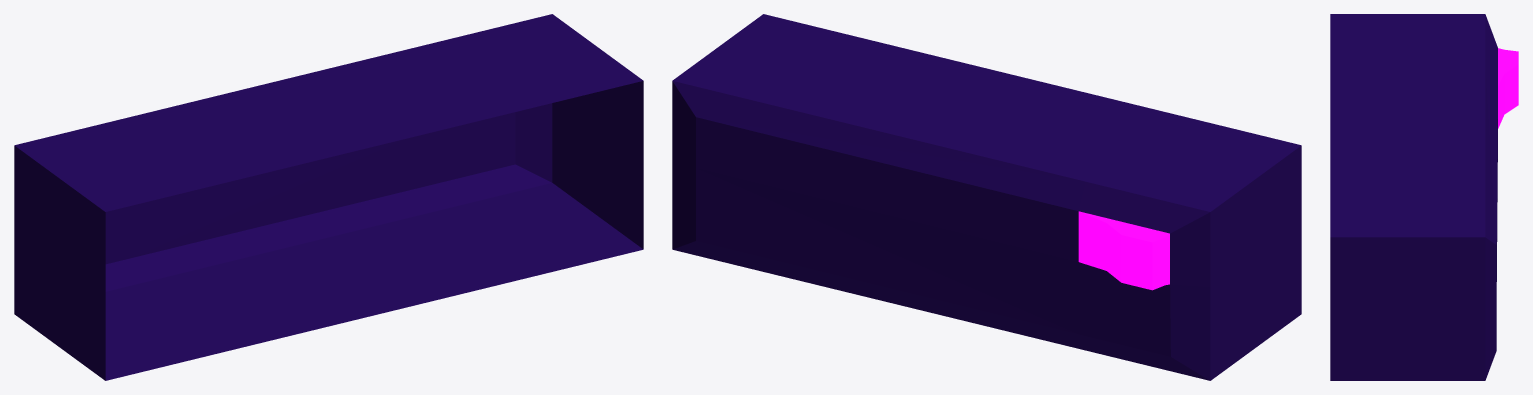
Rendered from server_block.fbx.
The picture shows the model from 3 angles, left to right: view 1: azimuth 30°, elevation 25°; view 2: azimuth 150°, elevation 25°; view 3: azimuth 270°, elevation 25°; orthographic projection. The views are drawn at different scales.
Parts seen in each view (by area): view 1: server_block; view 2: server_block; view 3: server_block.
Boxes of the visible parts, bbox=[...] form: server_block: bbox=[14, 14, 643, 380]; server_block: bbox=[672, 14, 1301, 380]; server_block: bbox=[1330, 14, 1518, 380].
Size of the model in its own units: 56.55 by 16.95 by 20.18.
